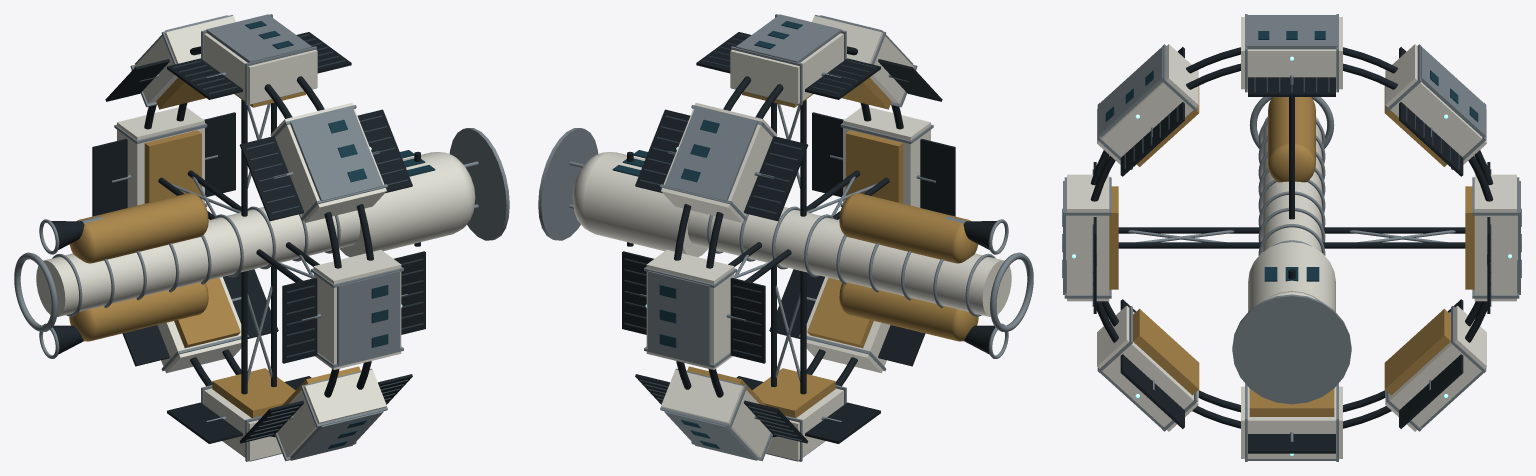
The model's file is aether-odyssey-carrier.glb.
3 renders of one model, left to right at view 1: azimuth 30°, elevation 25°; view 2: azimuth 150°, elevation 25°; view 3: azimuth 270°, elevation 25°, orthographic. The views are drawn at different scales.
Visible parts, largest first — view 1: Pressure_hull (×8), Radiator_panel (×13), Outer_thermal_plate (×4), Central_pressure_spine, Insulated_service_bay (×4), Retained_propellant_tank (×2), Command_hull, Forward_Whipple_shield, Habitat_truss_ring (×2), Radial_longeron (×3), Tank_dome (×2), Stage_interface_flange (+2 smaller); view 2: Pressure_hull (×8), Radiator_panel (×13), Outer_thermal_plate (×4), Central_pressure_spine, Insulated_service_bay (×4), Retained_propellant_tank (×2), Command_hull, Forward_Whipple_shield, Habitat_truss_ring (×2), Radial_longeron (×3), Tank_dome (×2), Stage_interface_flange (+2 smaller); view 3: Pressure_hull (×8), Forward_Whipple_shield, Insulated_service_bay (×7), Radiator_panel (×6), Outer_thermal_plate (×3), Habitat_truss_ring (×2), Radial_longeron (×5), Command_hull, Central_pressure_spine, Retained_propellant_tank, Tank_dome, Stage_interface_flange.
Boxes of the visible parts, x1=… form: Pressure_hull (×8): x1=117, y1=16, x2=401, y2=460; Radiator_panel (×13): x1=92, y1=32, x2=425, y2=443; Outer_thermal_plate (×4): x1=206, y1=14, x2=400, y2=460; Central_pressure_spine: x1=36, y1=207, x2=360, y2=316; Insulated_service_bay (×4): x1=144, y1=77, x2=295, y2=417; Retained_propellant_tank (×2): x1=79, y1=193, x2=204, y2=340; Command_hull: x1=339, y1=152, x2=463, y2=257; Forward_Whipple_shield: x1=449, y1=128, x2=509, y2=240; Habitat_truss_ring (×2): x1=144, y1=46, x2=373, y2=437; Radial_longeron (×3): x1=241, y1=99, x2=276, y2=394; Tank_dome (×2): x1=69, y1=220, x2=95, y2=341; Stage_interface_flange: x1=14, y1=252, x2=57, y2=332; Pressure_hull (×8): x1=646, y1=16, x2=930, y2=460; Radiator_panel (×13): x1=622, y1=32, x2=955, y2=443; Outer_thermal_plate (×4): x1=647, y1=14, x2=841, y2=460; Central_pressure_spine: x1=687, y1=207, x2=1011, y2=316; Insulated_service_bay (×4): x1=752, y1=77, x2=903, y2=417; Retained_propellant_tank (×2): x1=843, y1=193, x2=968, y2=340; Command_hull: x1=584, y1=152, x2=708, y2=257; Forward_Whipple_shield: x1=538, y1=128, x2=598, y2=240; Habitat_truss_ring (×2): x1=674, y1=46, x2=903, y2=437; Radial_longeron (×3): x1=771, y1=99, x2=806, y2=394; Tank_dome (×2): x1=952, y1=220, x2=978, y2=341; Stage_interface_flange: x1=990, y1=252, x2=1033, y2=332; Pressure_hull (×8): x1=1067, y1=17, x2=1516, y2=458; Forward_Whipple_shield: x1=1232, y1=294, x2=1351, y2=404; Insulated_service_bay (×7): x1=1109, y1=86, x2=1474, y2=416; Radiator_panel (×6): x1=1120, y1=77, x2=1463, y2=453; Outer_thermal_plate (×3): x1=1097, y1=15, x2=1486, y2=137; Habitat_truss_ring (×2): x1=1090, y1=47, x2=1493, y2=428; Radial_longeron (×5): x1=1118, y1=97, x2=1465, y2=248; Command_hull: x1=1248, y1=242, x2=1335, y2=311; Central_pressure_spine: x1=1261, y1=116, x2=1322, y2=252; Retained_propellant_tank: x1=1268, y1=97, x2=1315, y2=163; Tank_dome: x1=1268, y1=143, x2=1315, y2=182; Stage_interface_flange: x1=1249, y1=97, x2=1334, y2=148.
Bounding box in the file's own units: 15.26 × 13.07 × 13.07.
